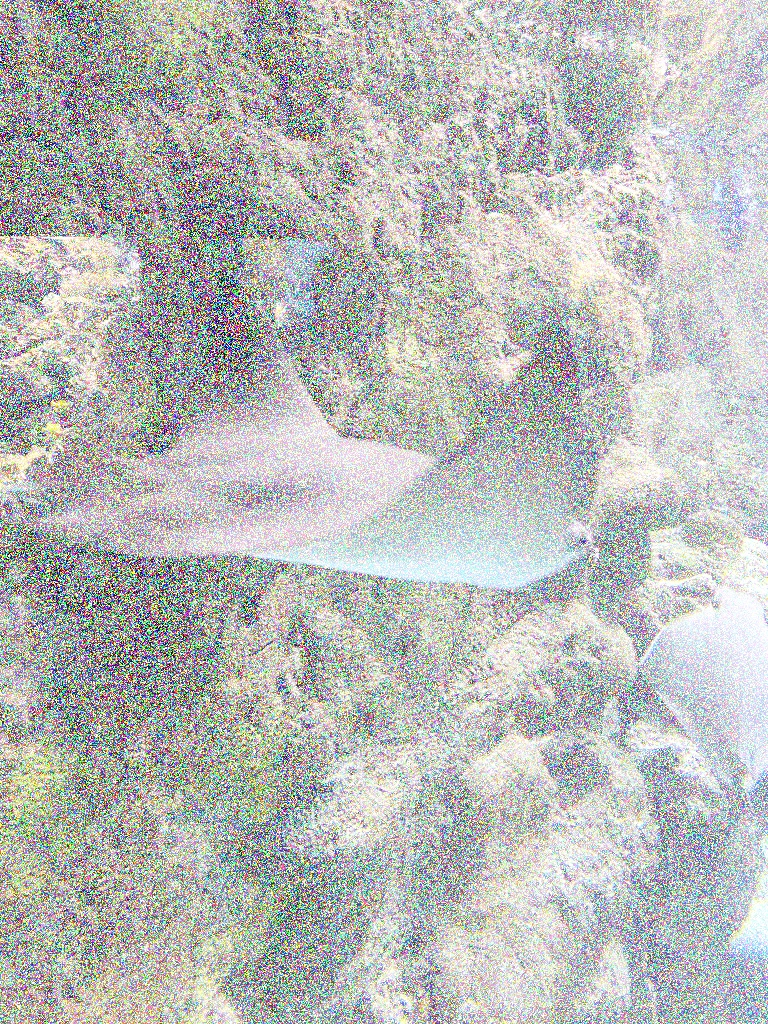stingray: (21, 266, 596, 592), (634, 580, 766, 800)
